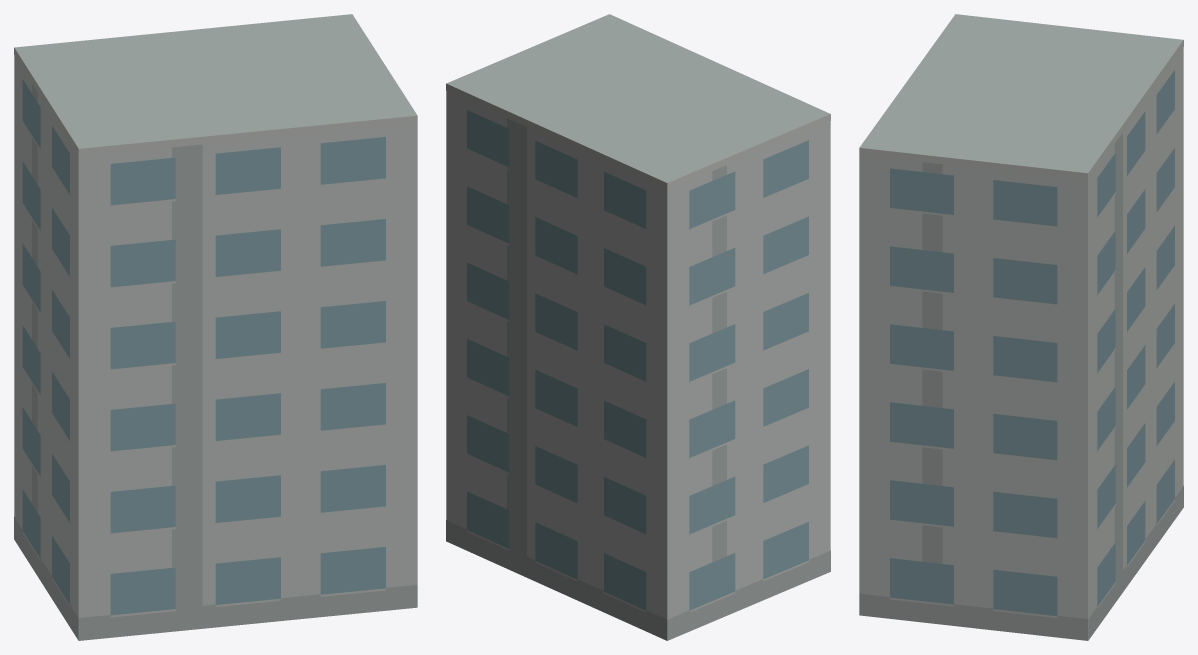
The model's file is survey-upis-32887927.glb.
The picture shows the model from 3 angles, left to right: view 1: azimuth 30°, elevation 25°; view 2: azimuth 150°, elevation 25°; view 3: azimuth 270°, elevation 25°; orthographic projection. The views are drawn at different scales.
Parts seen in each view (by area): view 1: survey-upis-32887927.tmp; view 2: survey-upis-32887927.tmp; view 3: survey-upis-32887927.tmp.
Boxes of the visible parts, bbox=[...] form: survey-upis-32887927.tmp: bbox=[14, 14, 417, 640]; survey-upis-32887927.tmp: bbox=[446, 14, 830, 640]; survey-upis-32887927.tmp: bbox=[859, 14, 1183, 640].
Bounding box in the file's own units: 11.41 × 15.6 × 9.82.
